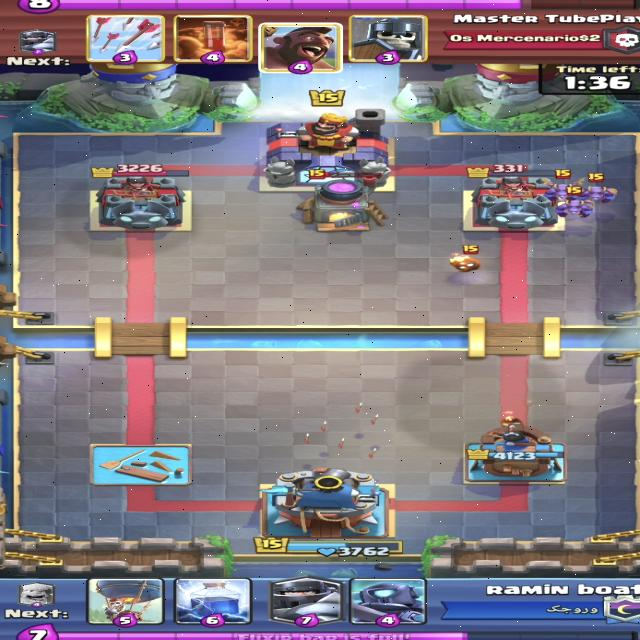Enemy-FireSpirit: (448, 244, 481, 273)
Enemy-Furnace: (296, 169, 389, 232)
Enemy-Minion: (572, 172, 620, 204), (556, 185, 595, 218), (543, 170, 584, 201)
